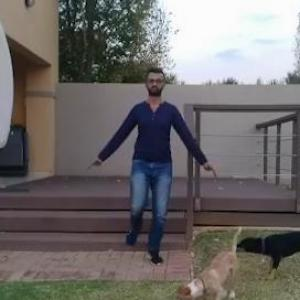land: (106, 77, 196, 246)
